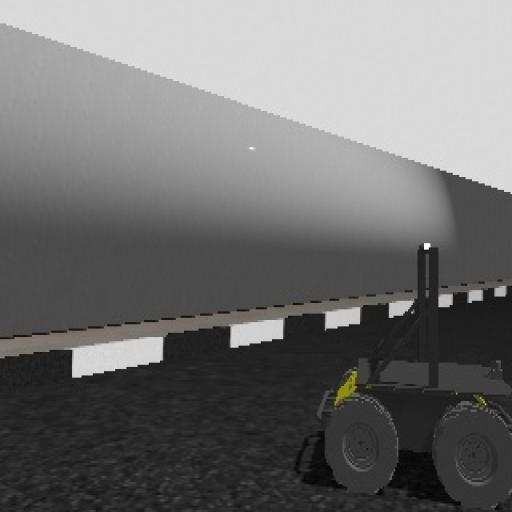huskya200: (302, 233, 512, 511)
